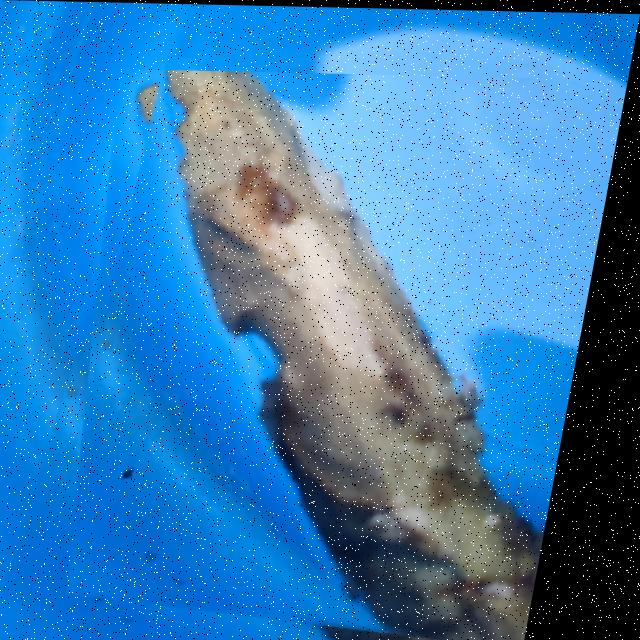litter: (34, 68, 630, 640)
